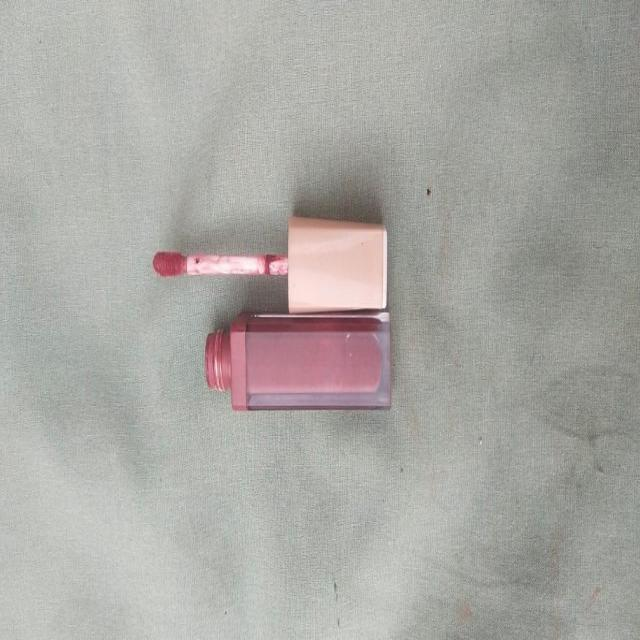lip gloss: (143, 216, 400, 326), (199, 305, 397, 421)
